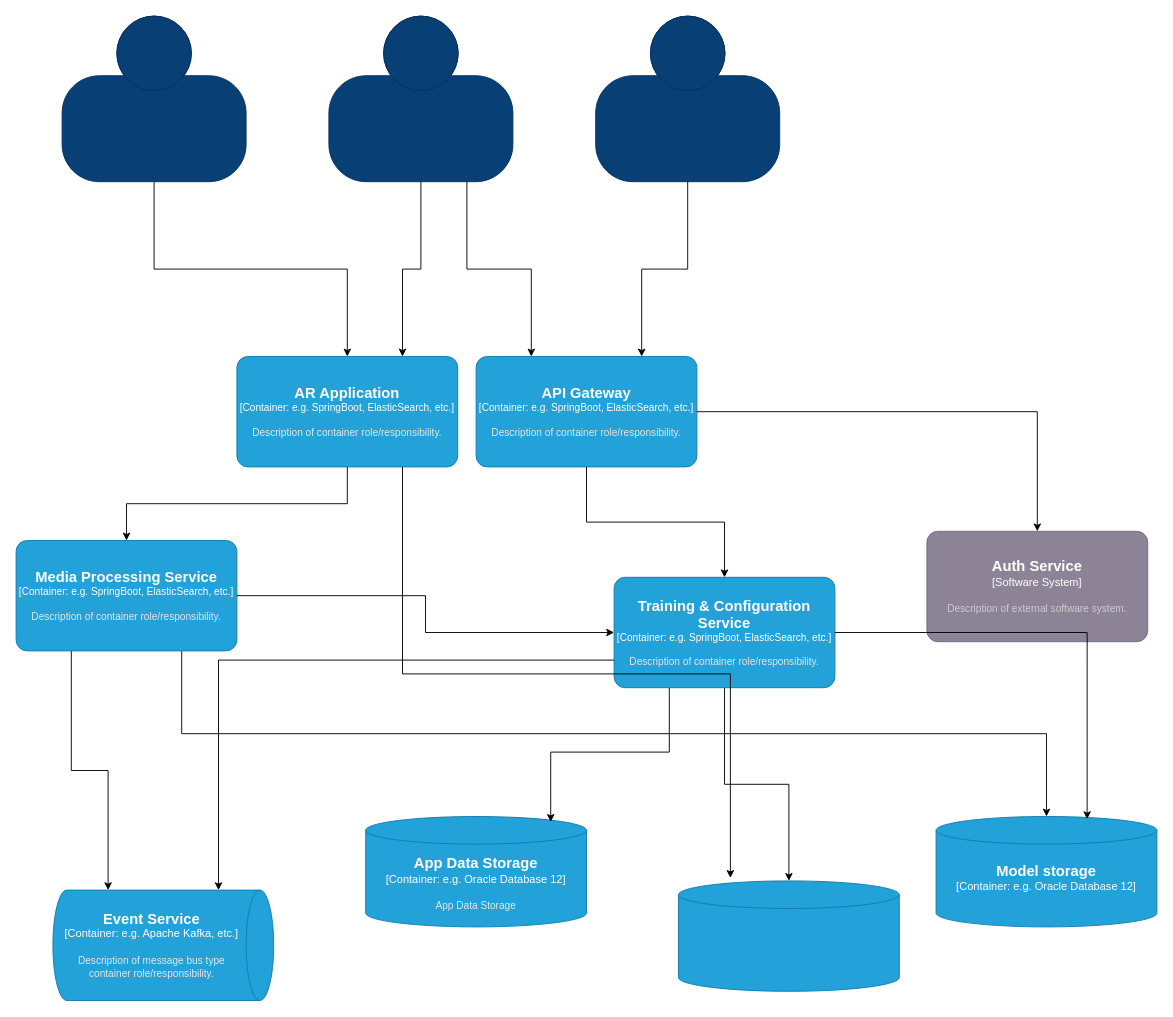
The diagram is 1173 pixels wide and 1017 high, and some of its shapes have lost their labels. Here are the shapes that lost their labels. From the top down, the box of each, then its label:
(61, 15, 246, 182): End User [Person] Description of person.
(328, 15, 513, 182): Configuration User [Person] Description of person.
(595, 15, 780, 182): System Administrator [Person] Description of person.
(678, 880, 899, 991): Audio & Video Data Storage [Container: e.g. Oracle Database 12]
